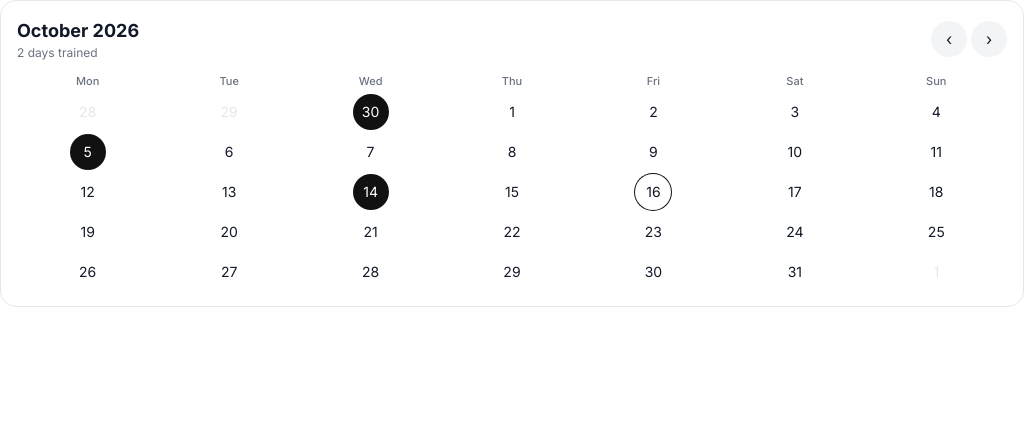
Test: MonthCalendar › lists every workout on a day with two sessions, using the workout name when set
What coordinates should you click on to do the following:
click the button "14"
I would click on:
 (371, 192)
Its box is [353,174,389,210].
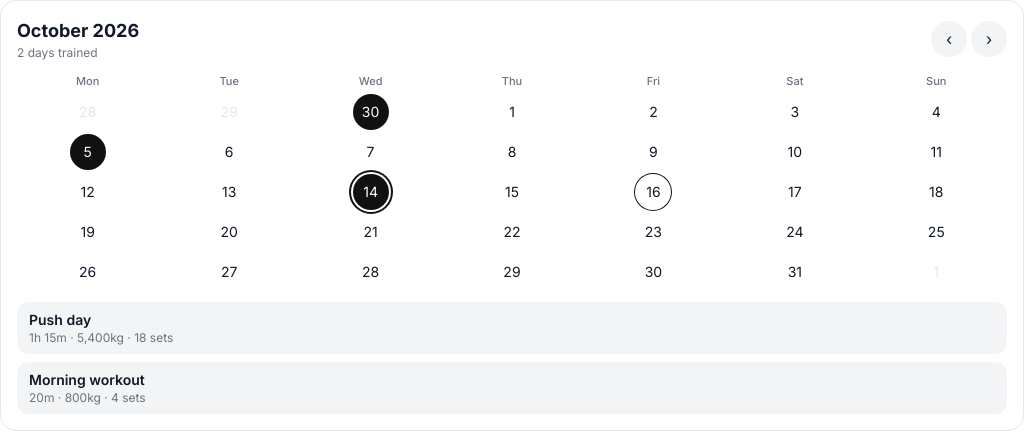
Expected: the text "Push day" is shown, [29,310,91,328]
Expected: the text "Morning workout" is shown, [29,370,145,388]
